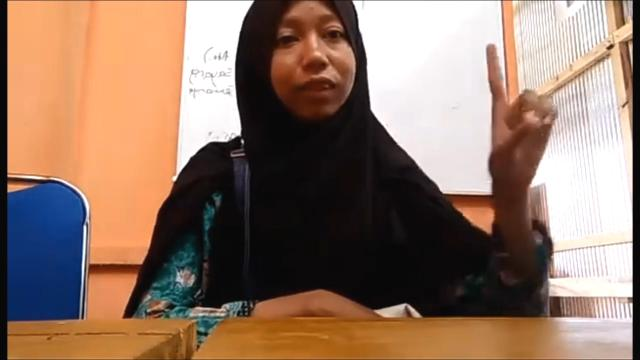D: (482, 42, 558, 204)
